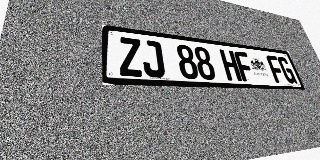8: (175, 44, 200, 79), (193, 46, 217, 80)
F: (233, 51, 256, 82), (265, 55, 287, 83)
G: (276, 56, 298, 84)
H: (219, 49, 242, 81)
J: (141, 39, 166, 78)
Z: (118, 37, 144, 77)
